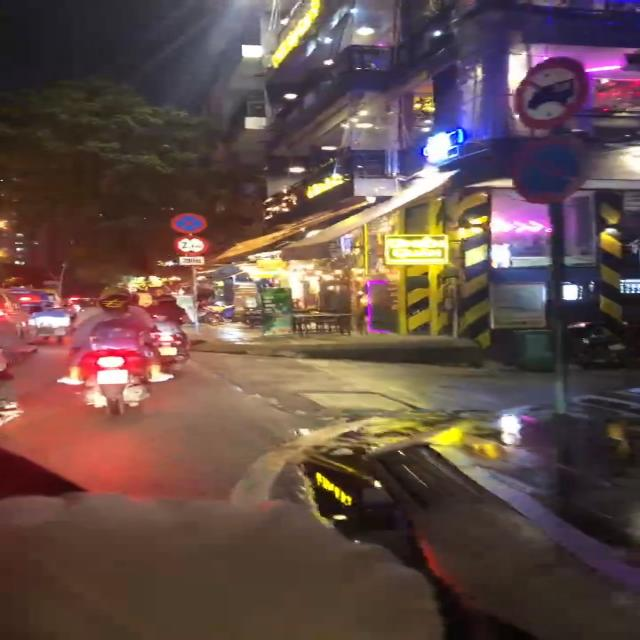Bien bao cam dung xe va do xe: (168, 211, 212, 235)
Bien bao han che chieu cao: (170, 234, 210, 255)
